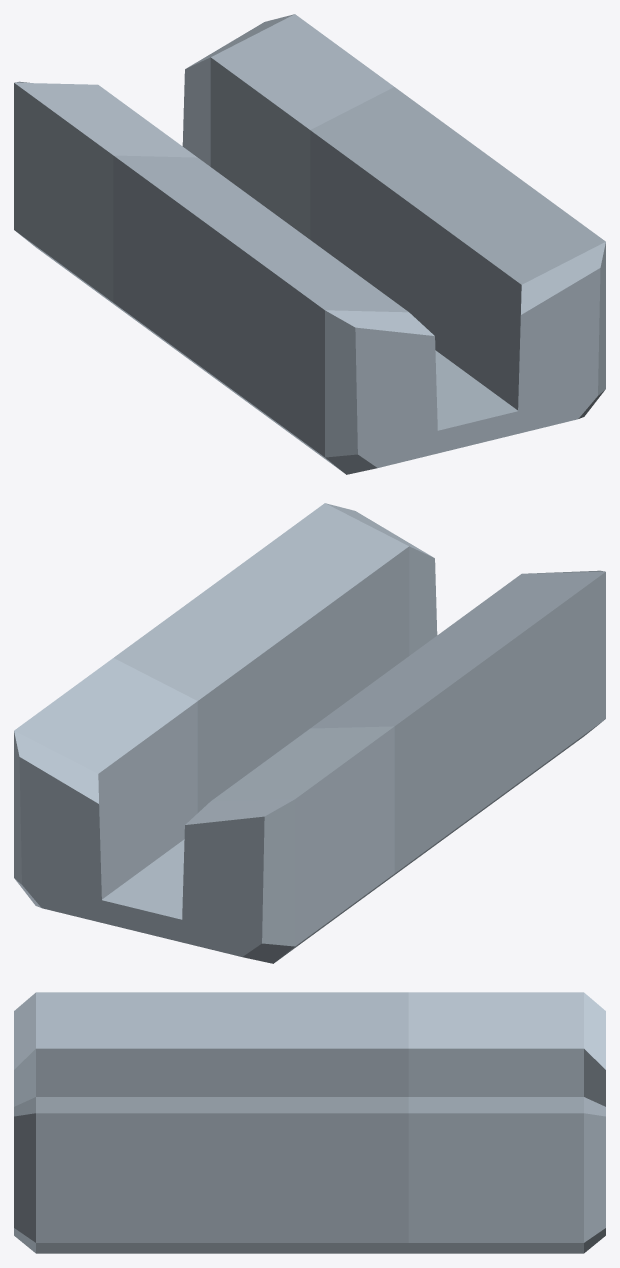
File: pillar_transport_c.glb
3 views of the same model, one above another, from view 1: azimuth 30°, elevation 25°; view 2: azimuth 150°, elevation 25°; view 3: azimuth 270°, elevation 25° (orthographic). The views are drawn at different scales.
Visible parts, largest first — view 1: pillar_transport_c; view 2: pillar_transport_c; view 3: pillar_transport_c.
Boxes of the visible parts, <box> form: pillar_transport_c: <box>14,14,605,474</box>; pillar_transport_c: <box>14,503,605,963</box>; pillar_transport_c: <box>14,992,605,1253</box>.
Bounding box in the file's own units: 4.3 × 2.48 × 8.9.
